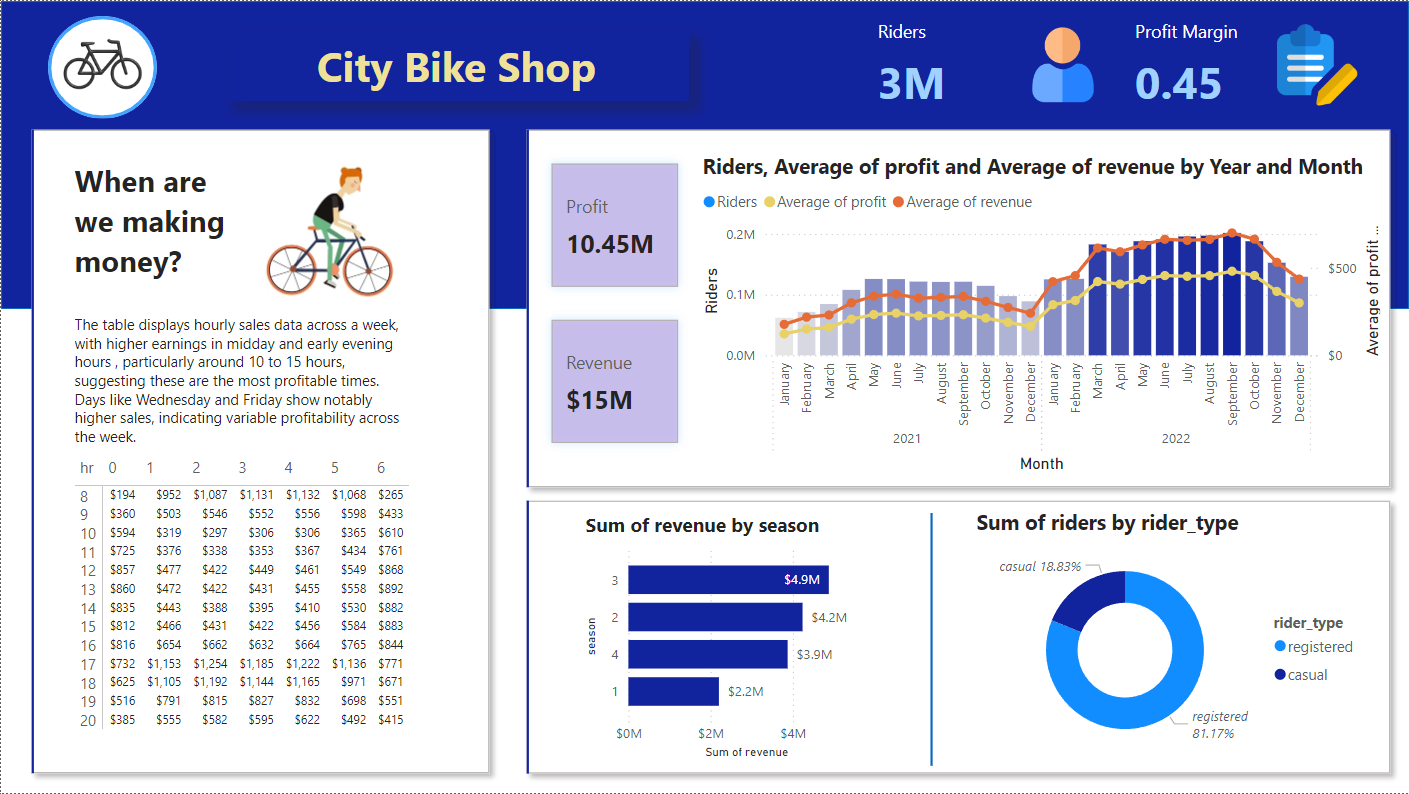

The page's visual inventory and layout, read from the dashboard file:
{"tool":"powerbi","page":{"name":"Page 1","canvas":[1280,720],"ordinal":0},"visuals":[{"type":"shape","box":[0,0,1280,280.1],"z":0},{"type":"cardVisual","fields":{"Data":["Min(Query1.riders)"]},"box":[10.5,100,450.5,619],"z":1000},{"type":"cardVisual","fields":{"Data":["Min(Query1.riders)"]},"box":[461,100,819,359],"z":2000},{"type":"cardVisual","fields":{"Data":["Min(Query1.riders)"]},"box":[461,437.1,819,282.9],"z":3000},{"type":"cardVisual","fields":{"Data":["Min(Query1.riders)"]},"box":[180,121,263.8,159],"z":4000},{"type":"pivotTable","fields":{"Values":["Avg(Query1.revenue)"],"Columns":["Query1.weekday"],"Rows":["Query1.hr"]},"box":[62,410.3,337.3,266.2],"z":5000},{"type":"textbox","box":[61.9,140,159,135.2],"z":6000},{"type":"textbox","box":[61.9,280,310.5,132.4],"z":7000},{"type":"lineClusteredColumnComboChart","fields":{"Category":["Query1.dteday.Variation.Date Hierarchy.Year","Query1.dteday.Variation.Date Hierarchy.Month","Query1.dteday.Variation.Date Hierarchy.Day"],"Y":["Sum(Query1.riders)"],"Y2":["Avg(Query1.profit)","Avg(Query1.revenue)"]},"box":[632.4,137.1,625.7,296.2],"z":8000},{"type":"clusteredBarChart","fields":{"Category":["Query1.season"],"Y":["Sum(Query1.revenue)"]},"box":[526,464,276.2,229.7],"z":9000},{"type":"donutChart","fields":{"Category":["Query1.rider_type"],"Y":["Sum(Query1.riders)"]},"box":[881.6,461.3,361.9,233.4],"z":10000},{"type":"shape","box":[829.6,465.9,31.9,229.7],"z":11000},{"type":"cardVisual","fields":{"Data":["Sum(Query1.profit)","Sum(Query1.revenue)"]},"box":[484.8,131.4,147.6,287.6],"z":12000},{"type":"cardVisual","fields":{"Data":["Sum(Query1.riders)","Query1.Profit Margin"]},"box":[780,0,470.5,106.7],"z":13000},{"type":"shape","box":[42.9,13.3,99,93.3],"z":14000},{"type":"image","box":[41,11.4,102.9,91.4],"z":15000},{"type":"textbox","box":[206.7,28.6,419,62.9],"z":16000}]}

Visuals, with their boxes in screenshot pixels (x1, y1, x2, y2), scaled from the page's 1280x720 canvas onto the 1409x794 screenshot:
shape: box(0, 0, 1408, 309)
cardVisual - Min(Query1.riders): box(12, 110, 507, 793)
cardVisual - Min(Query1.riders): box(507, 110, 1408, 506)
cardVisual - Min(Query1.riders): box(507, 482, 1408, 793)
cardVisual - Min(Query1.riders): box(198, 133, 489, 309)
pivotTable - Avg(Query1.revenue) x Query1.weekday: box(68, 452, 440, 746)
textbox: box(68, 154, 243, 303)
textbox: box(68, 309, 410, 455)
lineClusteredColumnComboChart - Query1.dteday.Variation.Date Hierarchy.Year x Query1.dteday.Variation.Date Hierarchy.Month: box(696, 151, 1385, 478)
clusteredBarChart - Query1.season x Sum(Query1.revenue): box(579, 512, 883, 765)
donutChart - Query1.rider_type x Sum(Query1.riders): box(970, 509, 1369, 766)
shape: box(913, 514, 948, 767)
cardVisual - Sum(Query1.profit) x Sum(Query1.revenue): box(534, 145, 696, 462)
cardVisual - Sum(Query1.riders) x Query1.Profit Margin: box(859, 0, 1377, 118)
shape: box(47, 15, 156, 118)
image: box(45, 13, 158, 113)
textbox: box(228, 32, 689, 101)
